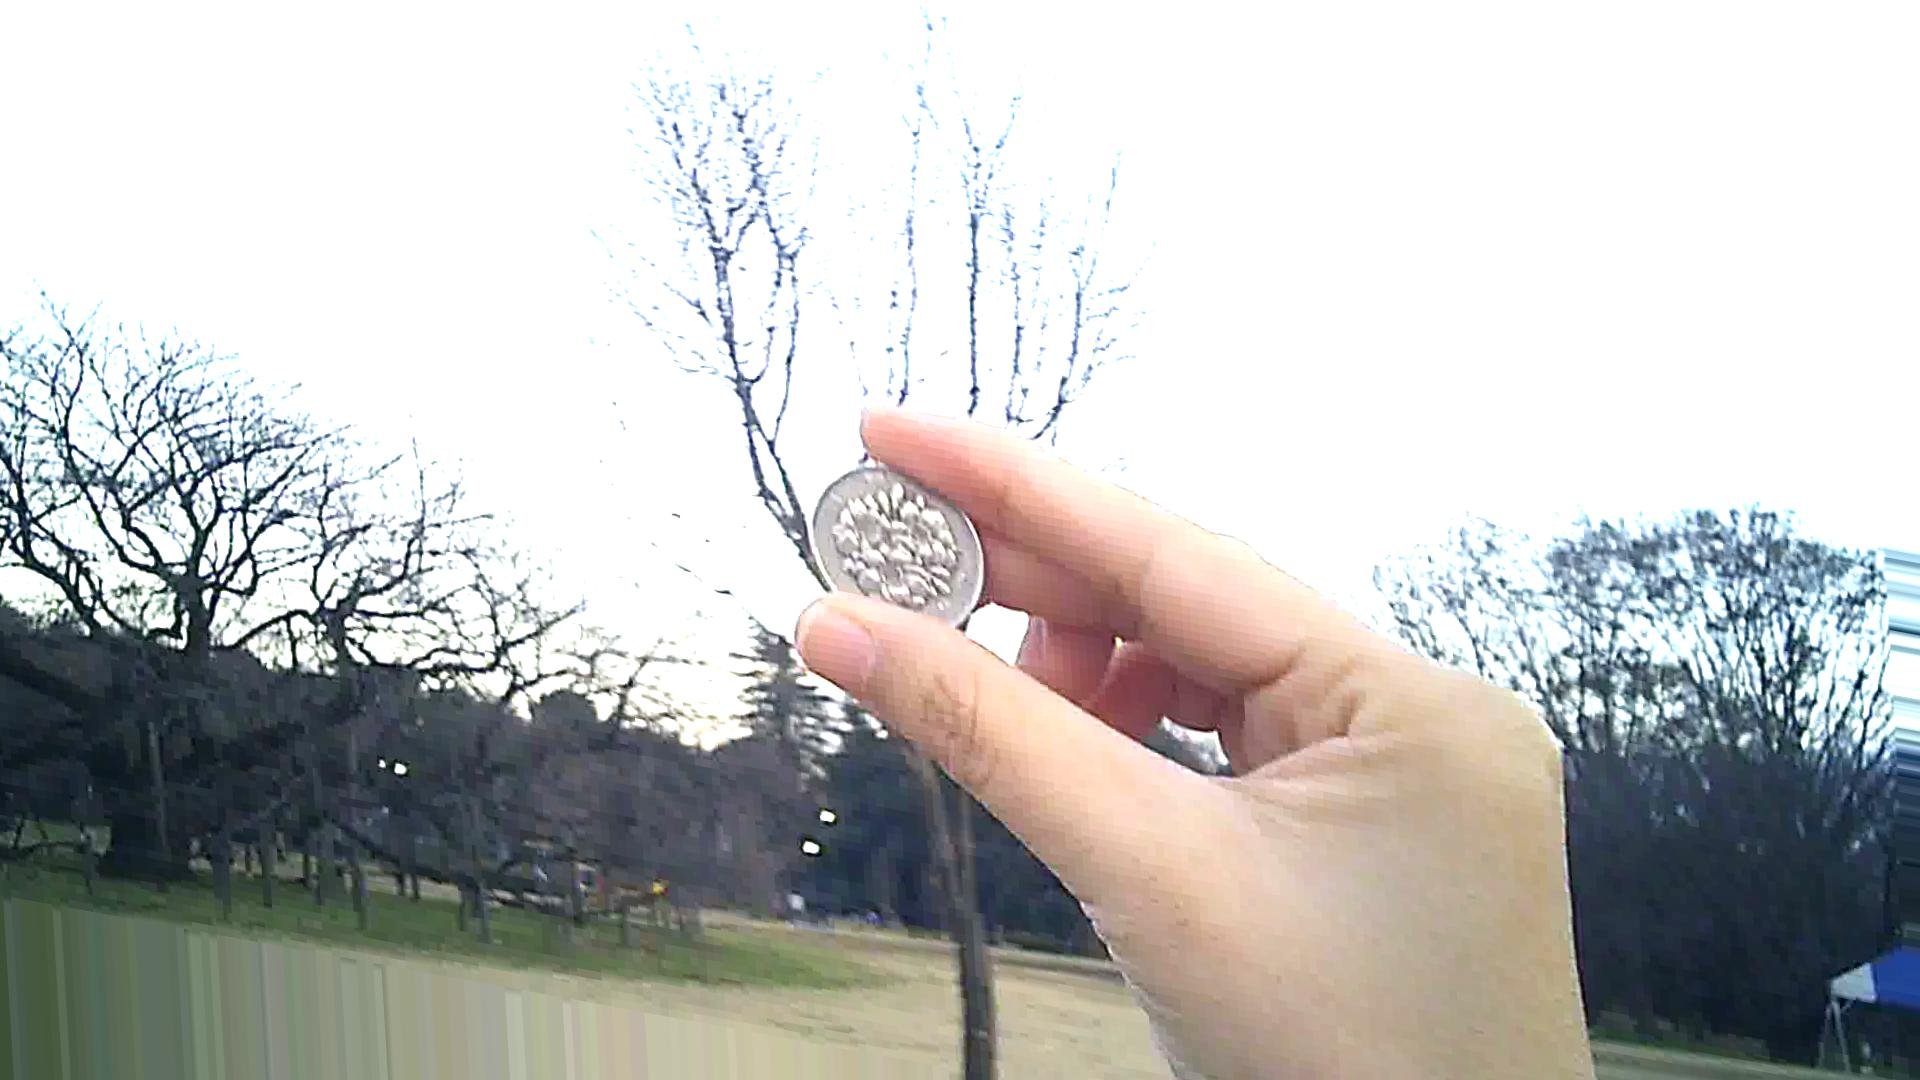100 Yen: (806, 465, 981, 653)
